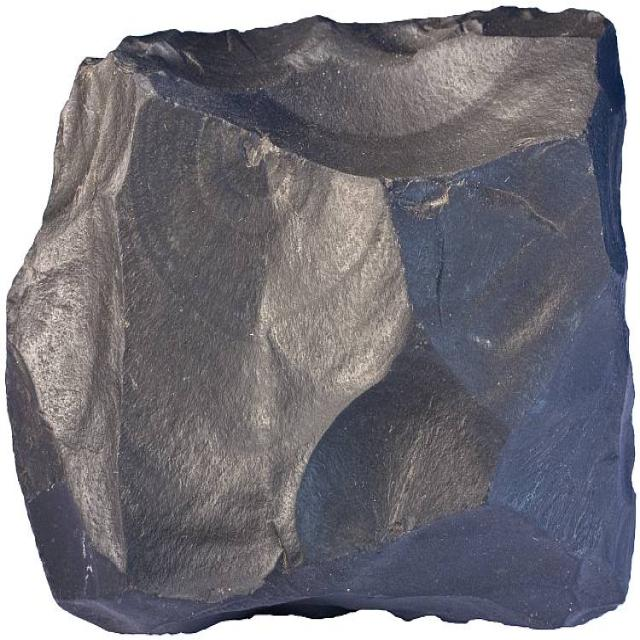Igneous: (12, 1, 632, 633)
